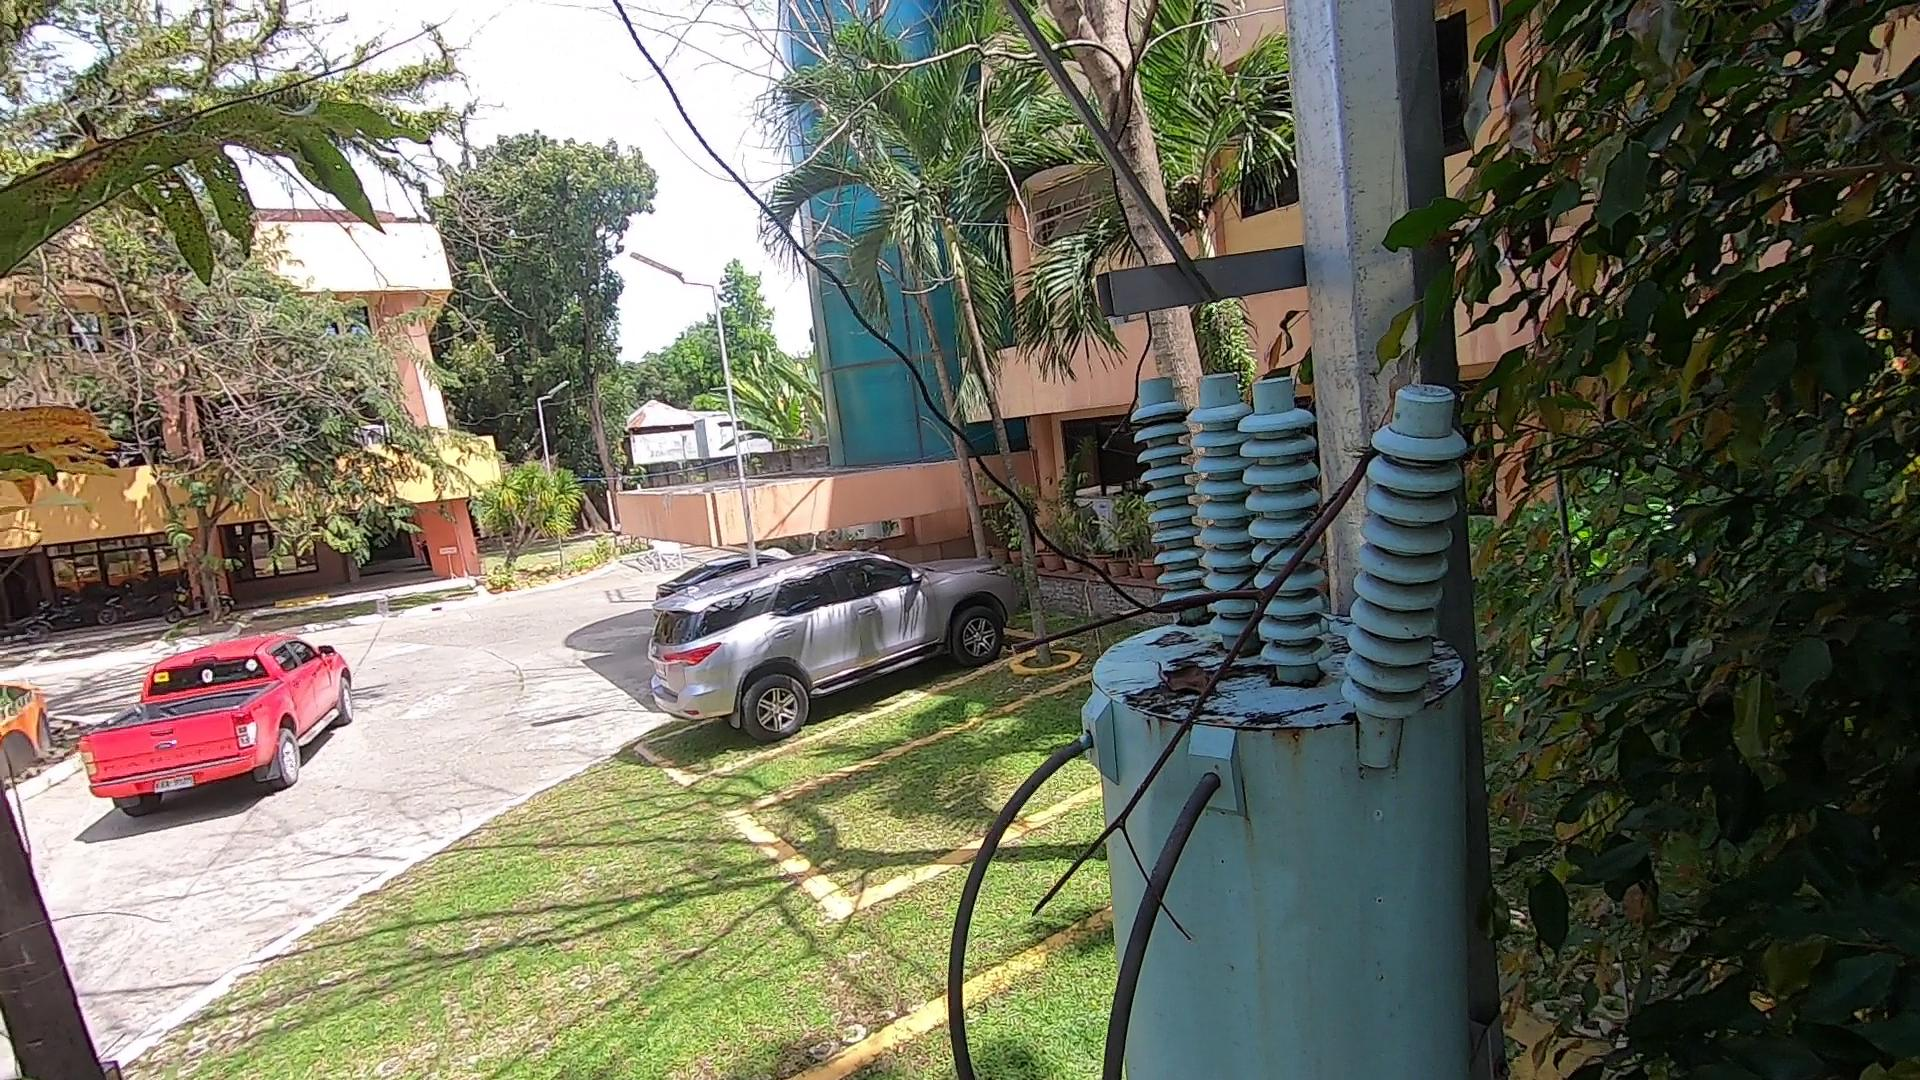leaf: (1135, 655, 1226, 716)
tree branch: (992, 423, 1402, 955)
